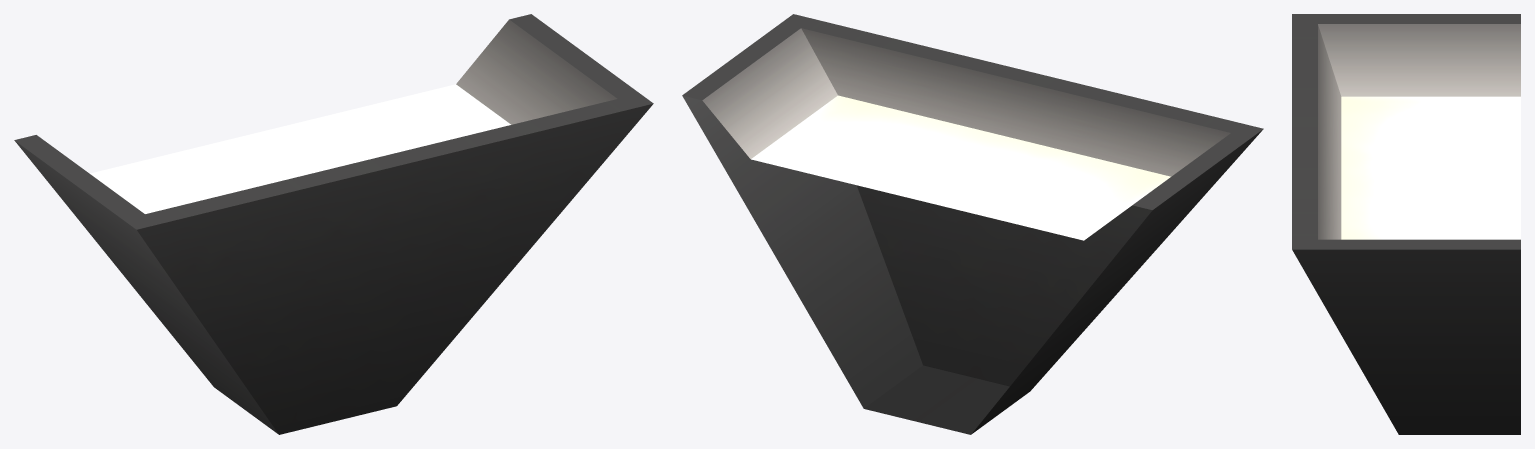
The model's file is Light_UpLight.fbx.
The picture shows the model from 3 angles, left to right: view 1: azimuth 30°, elevation 25°; view 2: azimuth 150°, elevation 25°; view 3: azimuth 270°, elevation 25°; orthographic projection. The views are drawn at different scales.
Parts seen in each view (by area): view 1: Light_UpLight; view 2: Light_UpLight; view 3: Light_UpLight.
Boxes of the visible parts, x1,y1,x2,y2 form: Light_UpLight: (14,14,653,434); Light_UpLight: (682,14,1263,434); Light_UpLight: (1292,14,1520,434).
Size of the model in its own units: 26.37 by 14.41 by 10.81.
